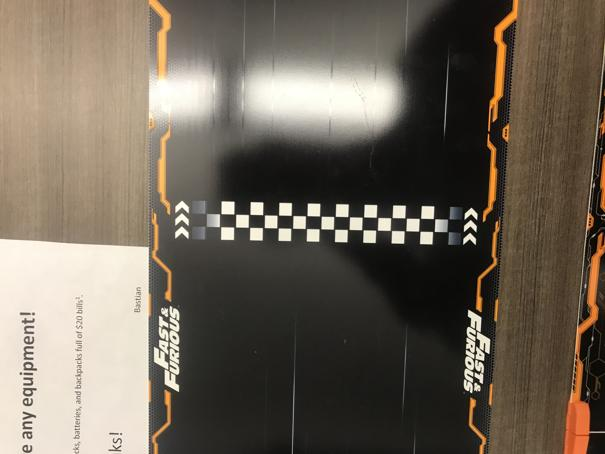Finish Line: (174, 199, 479, 246)
